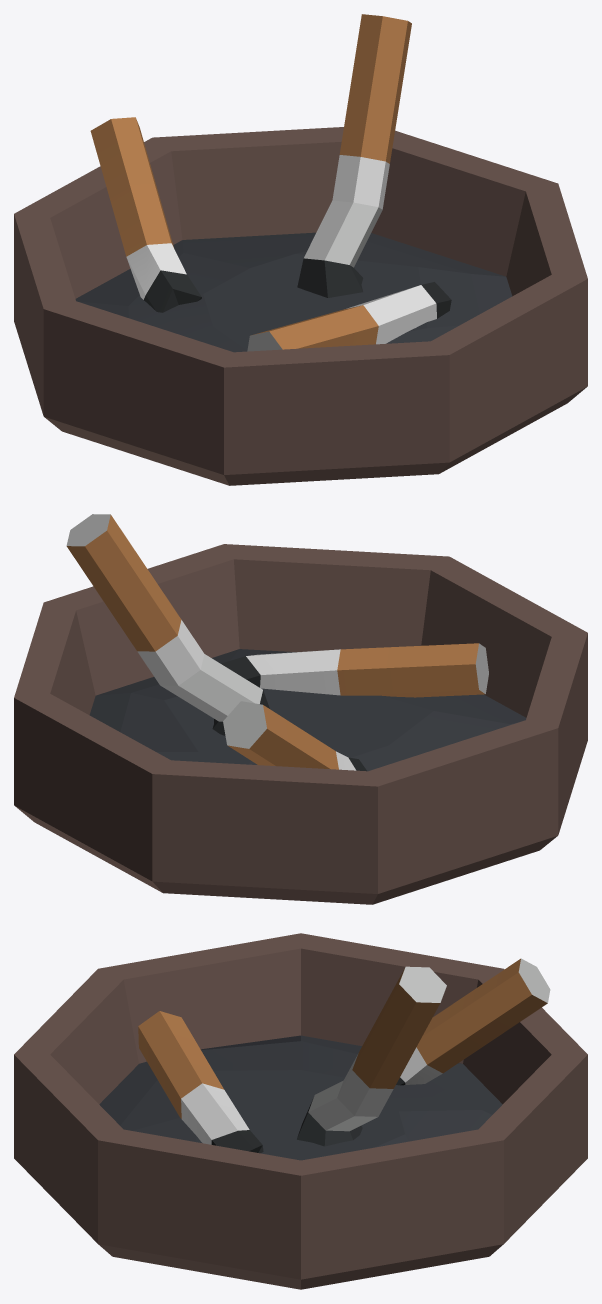
The model's file is SM_Prop_Cigarette_13.obj.
The picture shows the model from 3 angles, top to bottom: view 1: azimuth 30°, elevation 25°; view 2: azimuth 150°, elevation 25°; view 3: azimuth 270°, elevation 25°; orthographic projection. The views are drawn at different scales.
Visible parts, largest first — view 1: SM_Prop_Cigarette_13_0; view 2: SM_Prop_Cigarette_13_0; view 3: SM_Prop_Cigarette_13_0.
Part boxes in pixels (x1=…): SM_Prop_Cigarette_13_0: x1=14, y1=14, x2=587, y2=485; SM_Prop_Cigarette_13_0: x1=14, y1=514, x2=587, y2=904; SM_Prop_Cigarette_13_0: x1=14, y1=933, x2=587, y2=1289.
Bounding box in the file's own units: 0.246 × 0.1298 × 0.246.
Materials: 1 (1 with a texture image).
